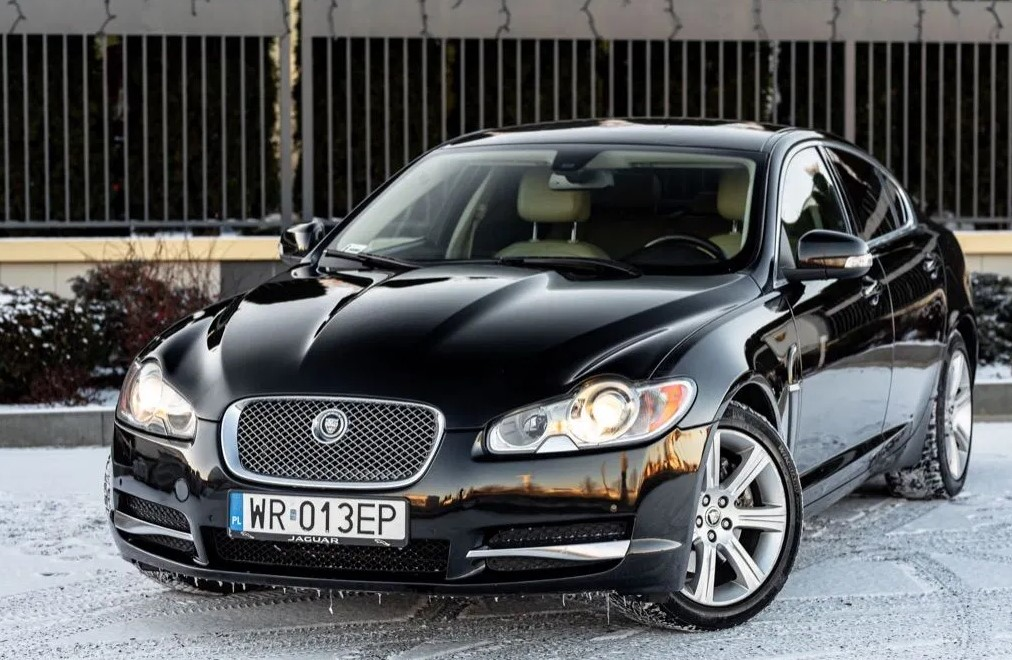number_plate: (222, 485, 413, 548)
